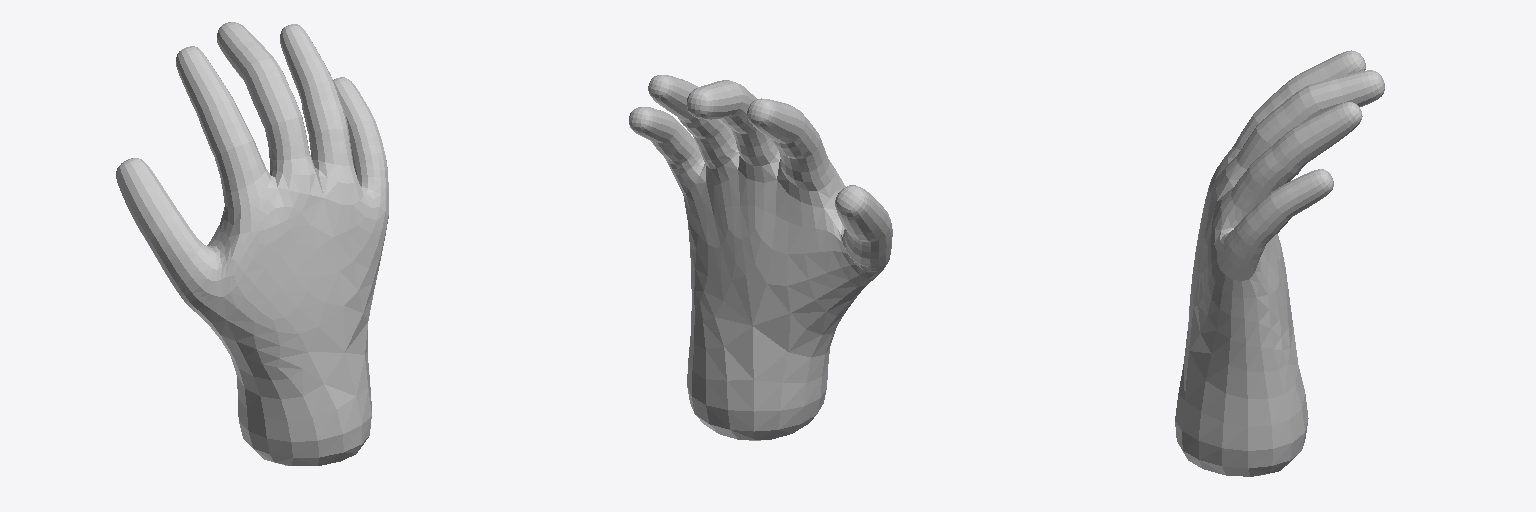
File: handmeshed.obj
3 renders of one model, left to right at view 1: azimuth 30°, elevation 25°; view 2: azimuth 150°, elevation 25°; view 3: azimuth 270°, elevation 25°, orthographic.
Parts seen in each view (by area): view 1: Cube; view 2: Cube; view 3: Cube.
Boxes of the visible parts, <box> form: Cube: <box>116,22,388,465</box>; Cube: <box>629,75,892,440</box>; Cube: <box>1175,50,1384,476</box>.
Size of the model in its own units: 3.64 by 5.67 by 2.78.